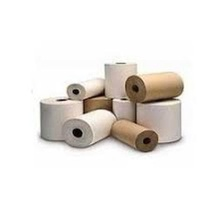tissue: (57, 104, 122, 150), (133, 94, 186, 147), (35, 92, 86, 145), (122, 67, 189, 106), (107, 114, 162, 155), (99, 58, 142, 102), (63, 73, 110, 103), (108, 94, 139, 127)
